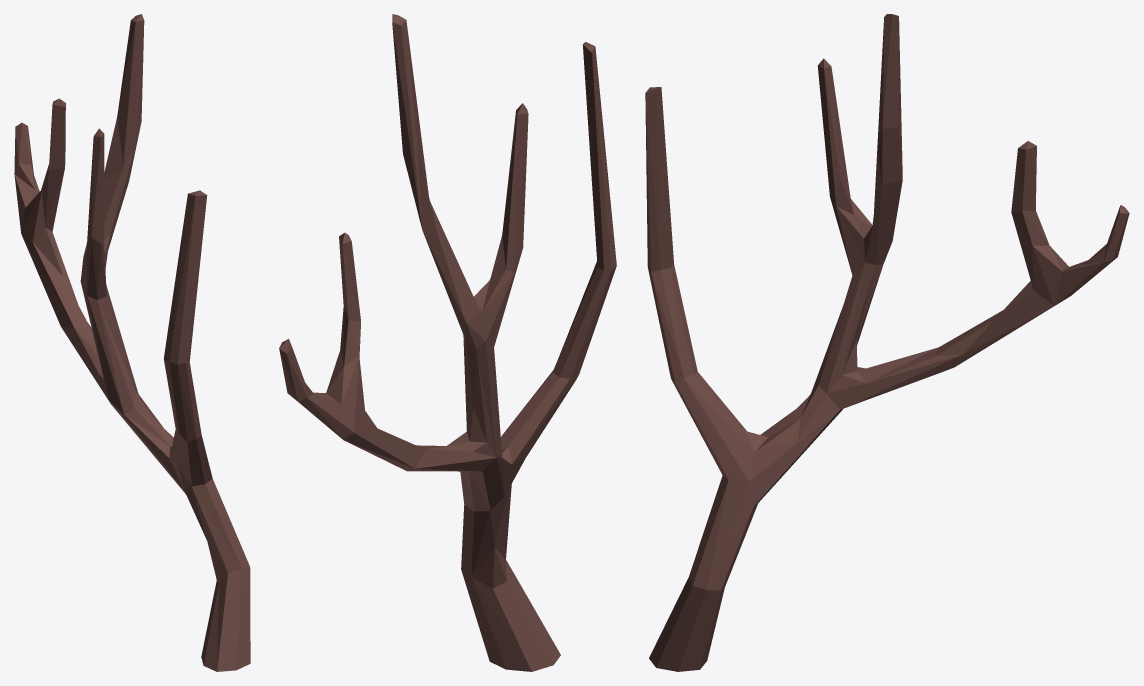
Rendered from Willow_Dead_1.lod2.glb.
The picture shows the model from 3 angles, left to right: view 1: azimuth 30°, elevation 25°; view 2: azimuth 150°, elevation 25°; view 3: azimuth 270°, elevation 25°; orthographic projection. The views are drawn at different scales.
Parts seen in each view (by area): view 1: Willow_Dead_1; view 2: Willow_Dead_1; view 3: Willow_Dead_1.
Boxes of the visible parts, x1,y1,x2,y2 form: Willow_Dead_1: [14, 14, 250, 671]; Willow_Dead_1: [279, 14, 616, 671]; Willow_Dead_1: [645, 14, 1129, 671].
Size of the model in its own units: 0.5047 by 2.69 by 1.81.
